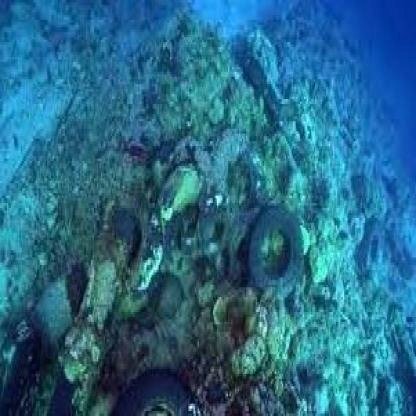tire: (105, 186, 185, 292), (112, 349, 202, 416), (243, 198, 300, 302)
